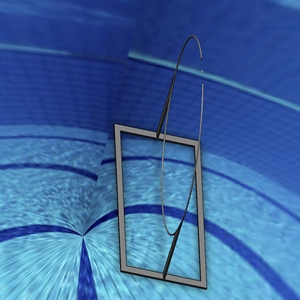circle: (107, 25, 217, 292), (155, 33, 206, 237)
